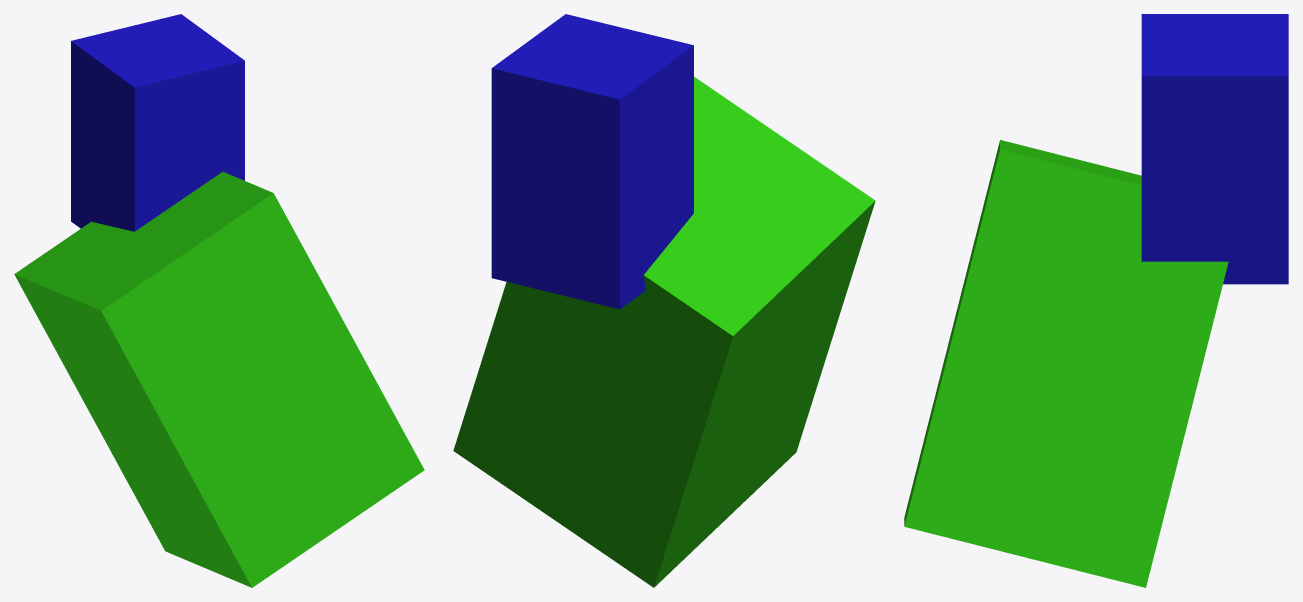
The model's file is personfbx_-Z_Y.fbx.
3 renders of one model, left to right at view 1: azimuth 30°, elevation 25°; view 2: azimuth 150°, elevation 25°; view 3: azimuth 270°, elevation 25°, orthographic. The views are drawn at different scales.
Visible parts, largest first — view 1: Cube, Cube.001; view 2: Cube, Cube.001; view 3: Cube, Cube.001.
Part boxes in pixels (x1=…): Cube: x1=14, y1=171, x2=424, y2=587; Cube.001: x1=71, y1=14, x2=244, y2=231; Cube: x1=453, y1=77, x2=875, y2=587; Cube.001: x1=491, y1=14, x2=693, y2=309; Cube: x1=904, y1=140, x2=1228, y2=587; Cube.001: x1=1141, y1=14, x2=1288, y2=284.
Size of what is drawn, in the model's own units: 3.9 by 5.88 by 3.75.
